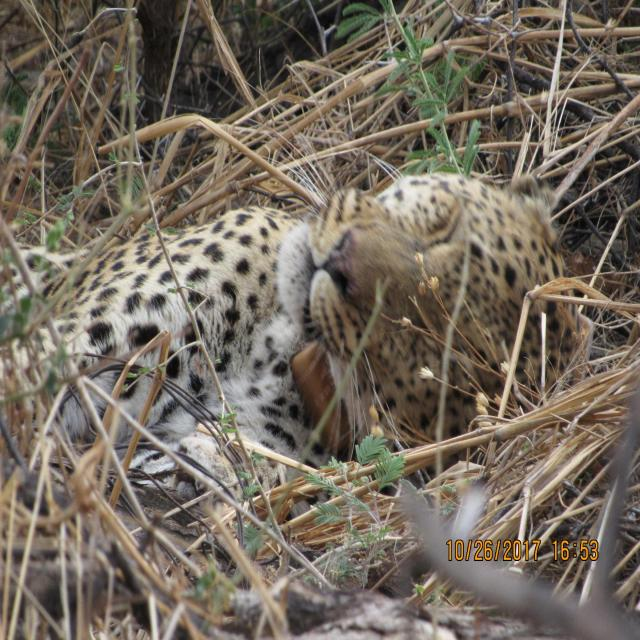Leopard: (29, 166, 606, 498)
